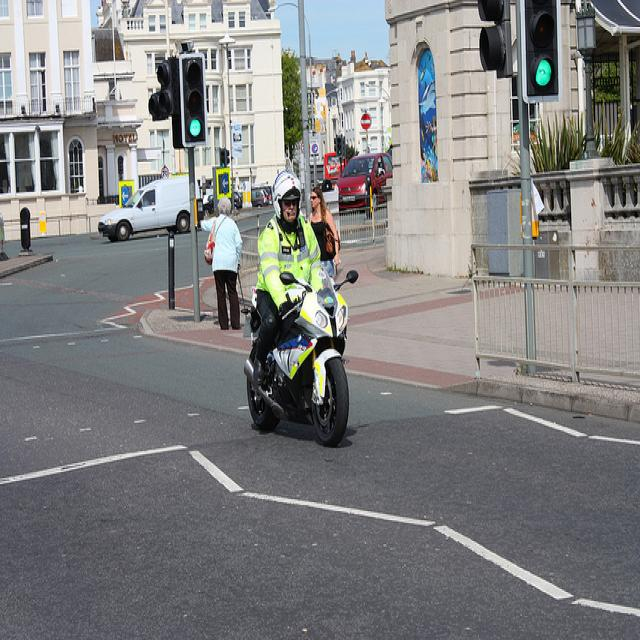motor: (239, 260, 359, 450)
